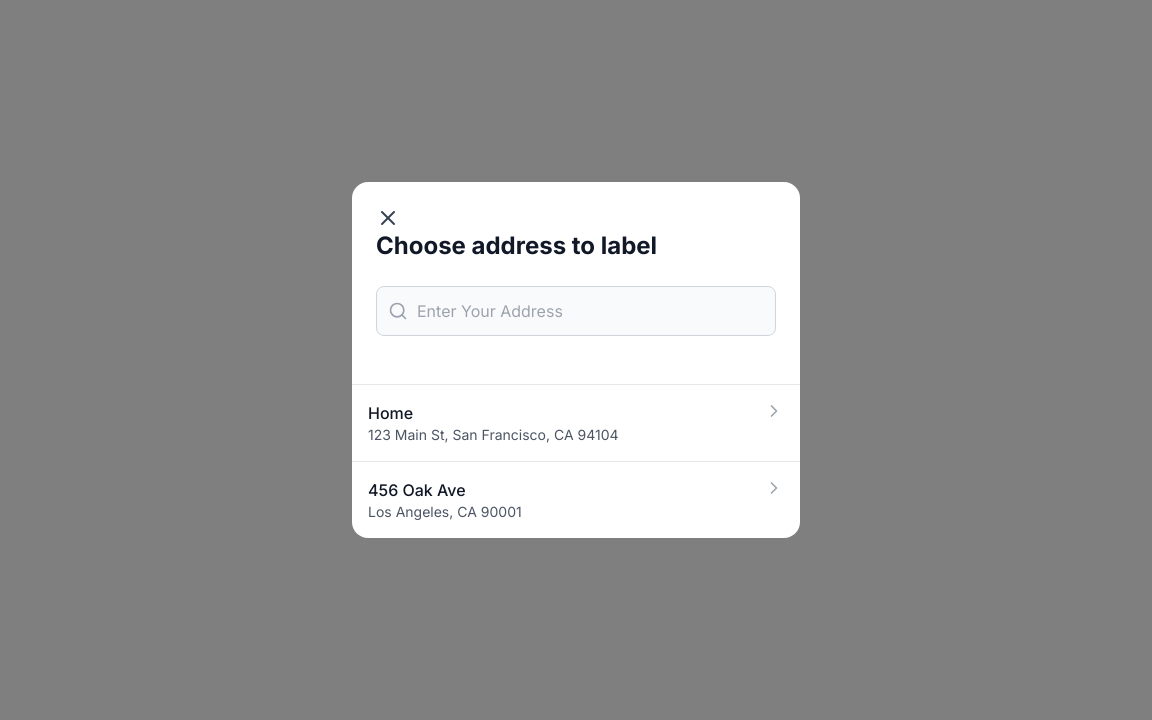
Scenario: ChooseAddressLabelModal › should show search results dropdown when typing
Type "Main" into the field with placeholder "Enter Your Address". click: x=576, y=311
box: [376, 286, 776, 336]
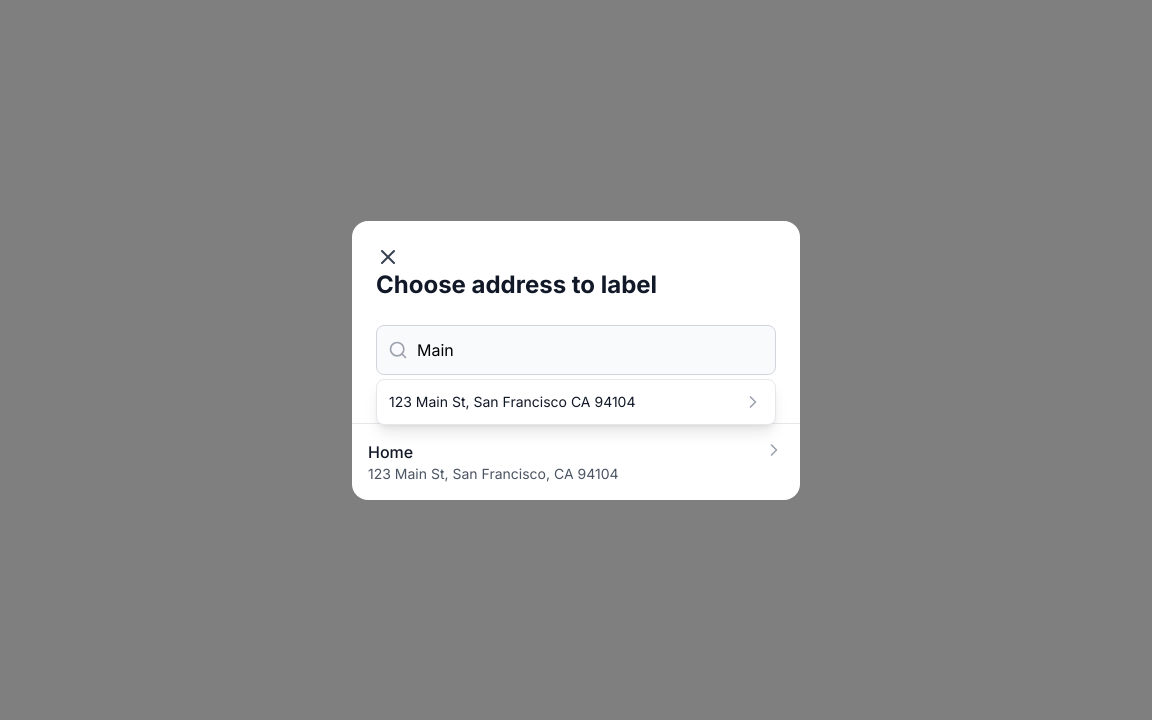
expect the text "123 Main St, San Francisco CA 94104" is shown: met, box [389, 392, 636, 410]
